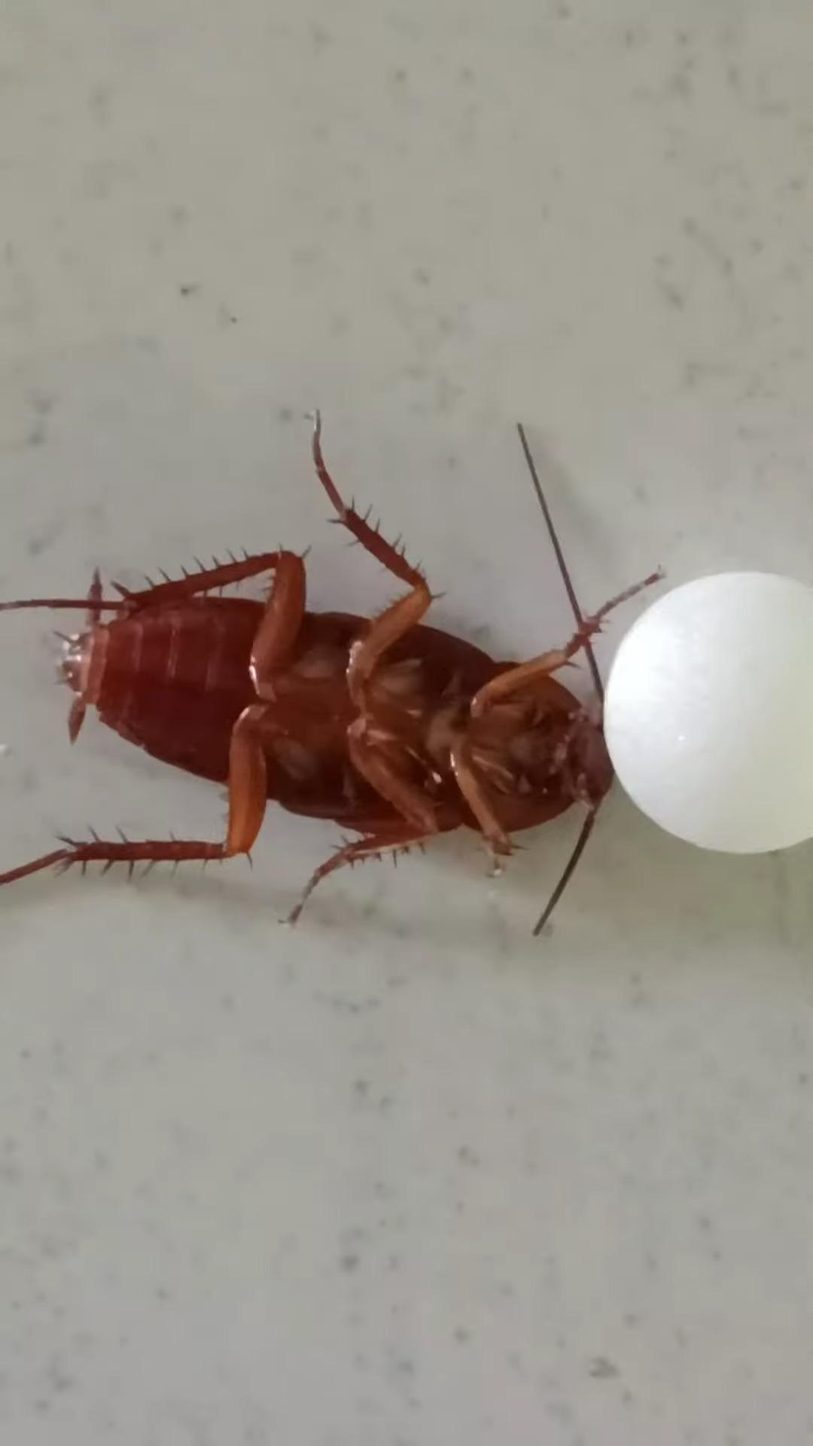cockroach: (0, 347, 604, 925)
